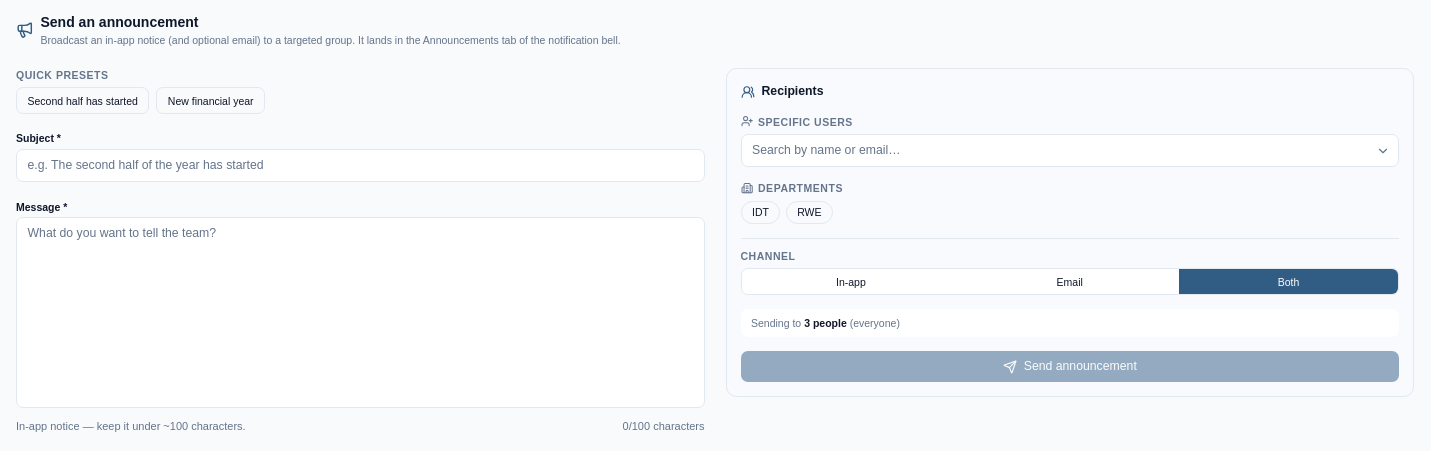
Test: NotifyTab — channel + message length guidance › switches to a word counter when the Email channel is selected
Click the radio button labelled "Email".
click(1070, 282)  # box [960,269,1179,294]
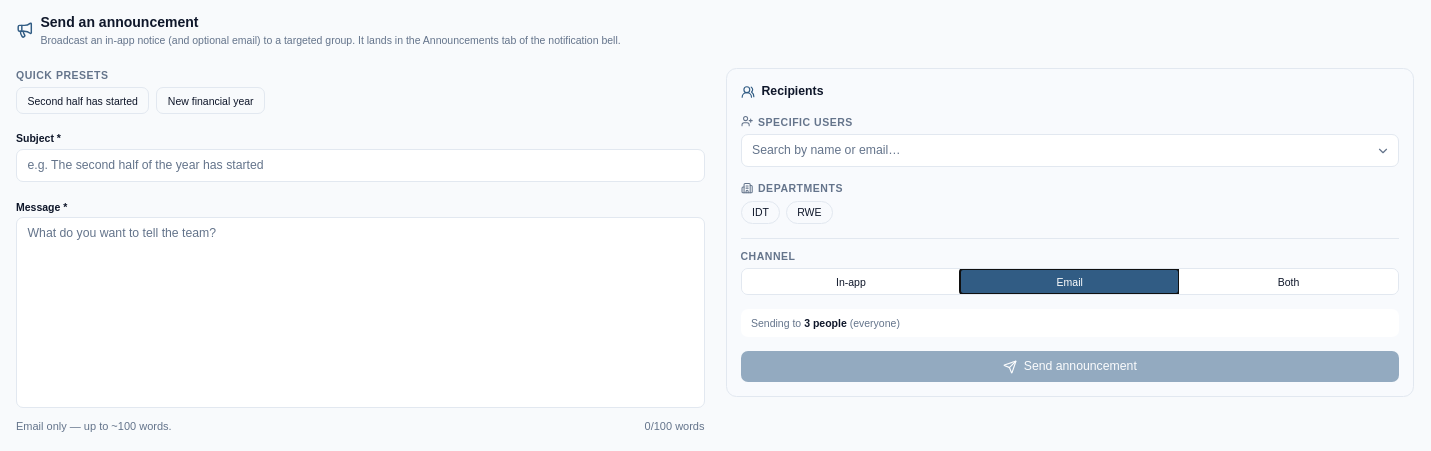
Expected: the text "0/100 words" is shown, [645,418,704,434]
